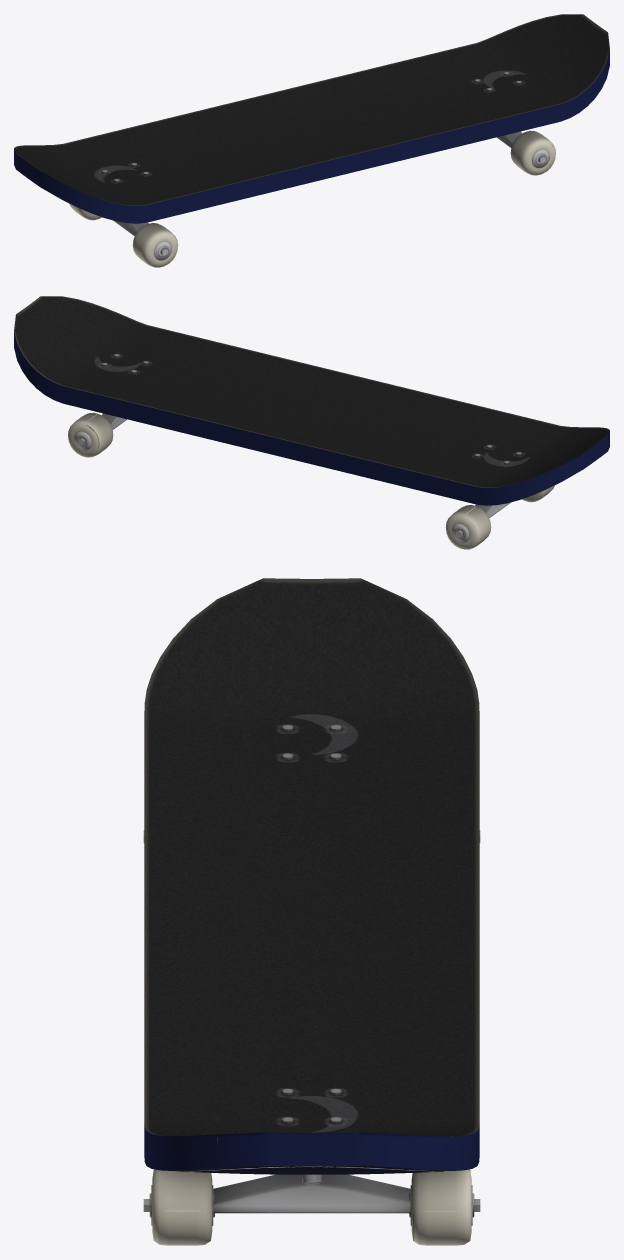
File: SkateboardMoonlit.fbx
3 views of the same model, one above another, from view 1: azimuth 30°, elevation 25°; view 2: azimuth 150°, elevation 25°; view 3: azimuth 270°, elevation 25° (orthographic). The views are drawn at different scales.
Parts seen in each view (by area): view 1: SkateboardMoonlit_Main, SkateboardMoonlit_WheelBR, SkateboardMoonlit_WheelFR; view 2: SkateboardMoonlit_Main, SkateboardMoonlit_WheelBL, SkateboardMoonlit_WheelFL; view 3: SkateboardMoonlit_Main, SkateboardMoonlit_TruckF, SkateboardMoonlit_WheelFL, SkateboardMoonlit_WheelFR.
Boxes of the visible parts, bbox=[...] form: SkateboardMoonlit_Main: bbox=[14, 14, 609, 223]; SkateboardMoonlit_WheelBR: bbox=[132, 223, 178, 267]; SkateboardMoonlit_WheelFR: bbox=[510, 130, 555, 175]; SkateboardMoonlit_Main: bbox=[14, 296, 609, 505]; SkateboardMoonlit_WheelBL: bbox=[445, 505, 491, 549]; SkateboardMoonlit_WheelFL: bbox=[68, 412, 113, 457]; SkateboardMoonlit_Main: bbox=[144, 578, 479, 1174]; SkateboardMoonlit_TruckF: bbox=[213, 1174, 410, 1213]; SkateboardMoonlit_WheelFL: bbox=[409, 1169, 480, 1245]; SkateboardMoonlit_WheelFR: bbox=[143, 1169, 214, 1245].
Size of the model in its own units: 544 by 92.43 by 140.
